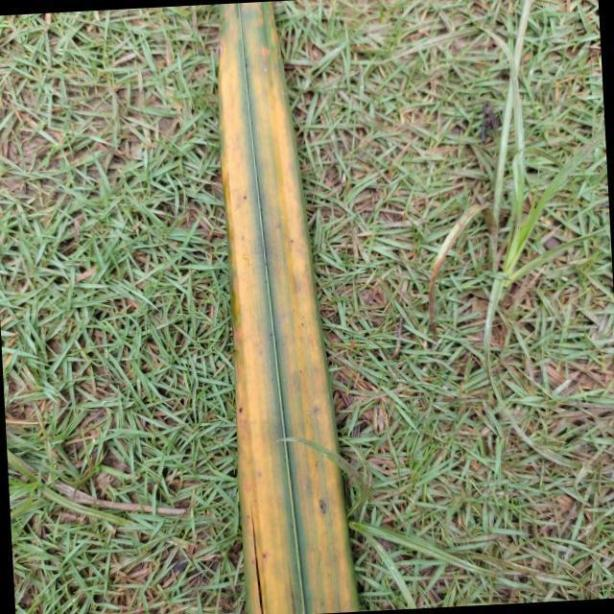Megnesium: (209, 0, 363, 614)
